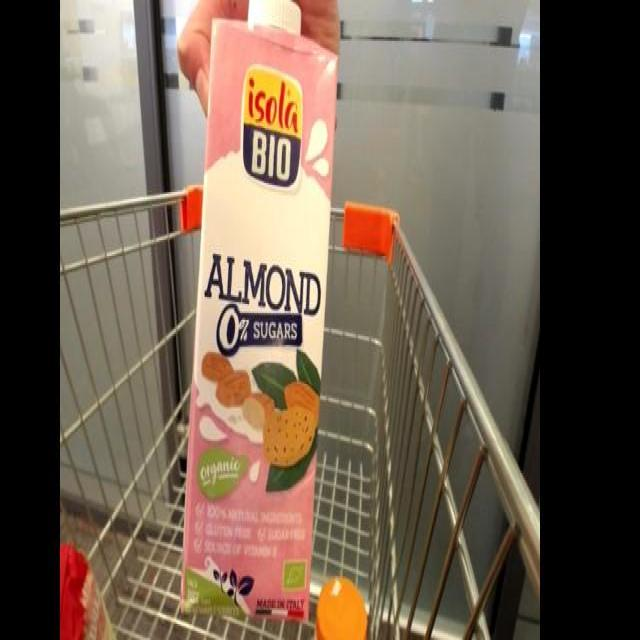Almond Milk: (178, 1, 344, 632)
